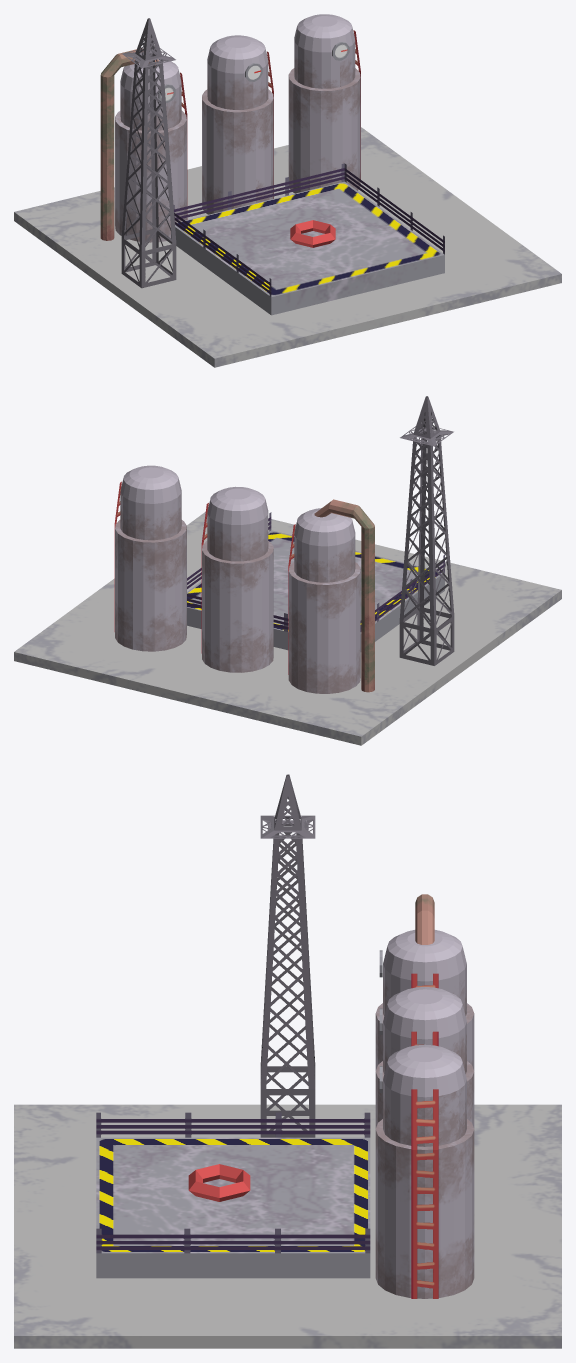
Rendered from GasProcessingPlant.fbx.
3 views of the same model, one above another, from view 1: azimuth 30°, elevation 25°; view 2: azimuth 150°, elevation 25°; view 3: azimuth 270°, elevation 25° (orthographic). The views are drawn at different scales.
Parts seen in each view (by area): view 1: Model, Cube; view 2: Model, Cube; view 3: Model, Cube.
Part boxes in pixels (<box>): Model: <box>14,14,561,367</box>; Cube: <box>121,18,176,288</box>; Model: <box>14,465,561,745</box>; Cube: <box>399,396,454,665</box>; Model: <box>14,894,561,1348</box>; Cube: <box>260,774,315,1137</box>.
Bounding box in the file's own units: 200 × 147 × 200.
